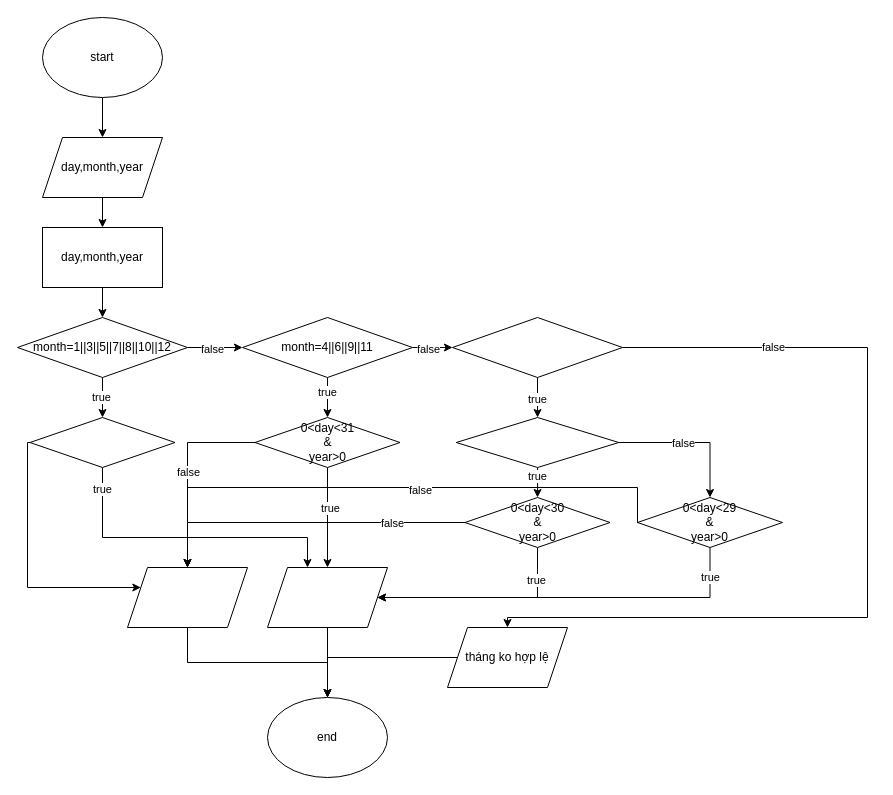
Image size: 893x795. Some labels were removed from this diagram. Here are the shapes that lost their labels. From the top down, the box of each, then its label:
(452, 316, 622, 378): month=2
(29, 416, 175, 468): 0<day<32 & year>0
(455, 416, 619, 468): (year%4==0)&&(year%100!=0)
(126, 566, 248, 628): ngày or năm ko hợp lệ
(266, 566, 388, 628): ngày tháng năm
